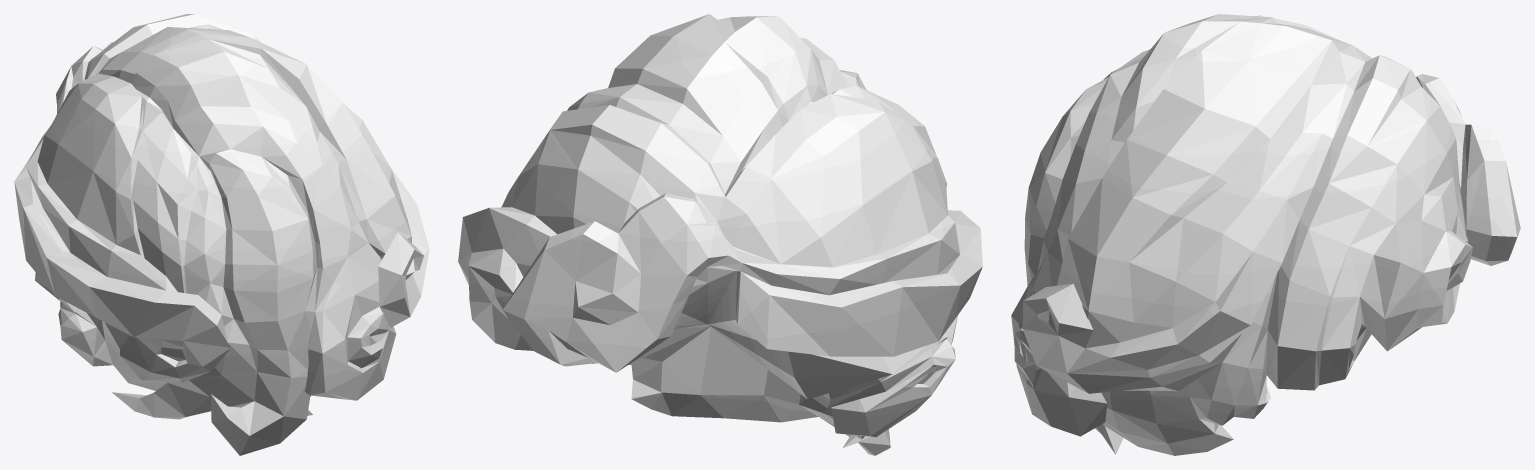
Rendered from CharSkyKid_Hair_Greek.glb.
3 views of the same model, side by side, from view 1: azimuth 30°, elevation 25°; view 2: azimuth 150°, elevation 25°; view 3: azimuth 270°, elevation 25° (orthographic). The views are drawn at different scales.
Visible parts, largest first — view 1: CharSkyKid_Hair_Greek; view 2: CharSkyKid_Hair_Greek; view 3: CharSkyKid_Hair_Greek.
Boxes of the visible parts, x1,y1,x2,y2 form: CharSkyKid_Hair_Greek: (14, 14, 429, 455); CharSkyKid_Hair_Greek: (458, 14, 982, 455); CharSkyKid_Hair_Greek: (1011, 14, 1520, 455).
Size of the model in its own units: 3.49 by 3.33 by 3.76.
1 material, 1 textured.
